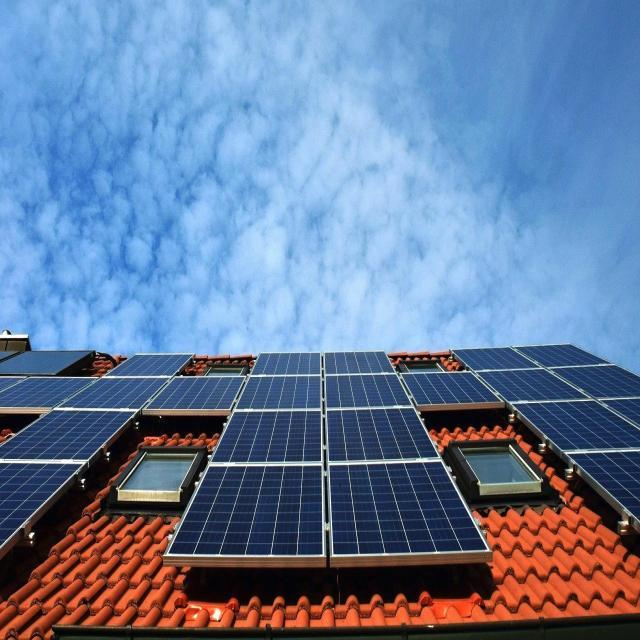no faulty: (328, 460, 491, 562), (165, 462, 324, 564), (0, 410, 134, 460), (324, 406, 439, 463), (206, 411, 322, 464), (143, 371, 236, 416), (412, 371, 506, 410), (325, 368, 414, 407), (228, 372, 320, 405), (526, 343, 606, 376)
